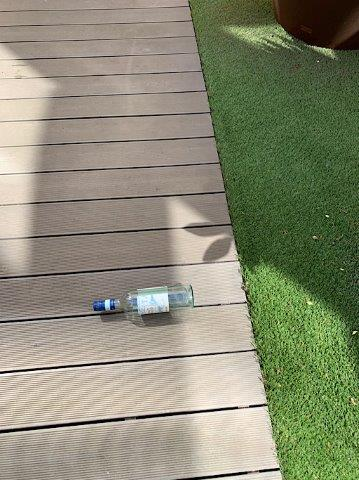botolkaca: (91, 284, 194, 318)
